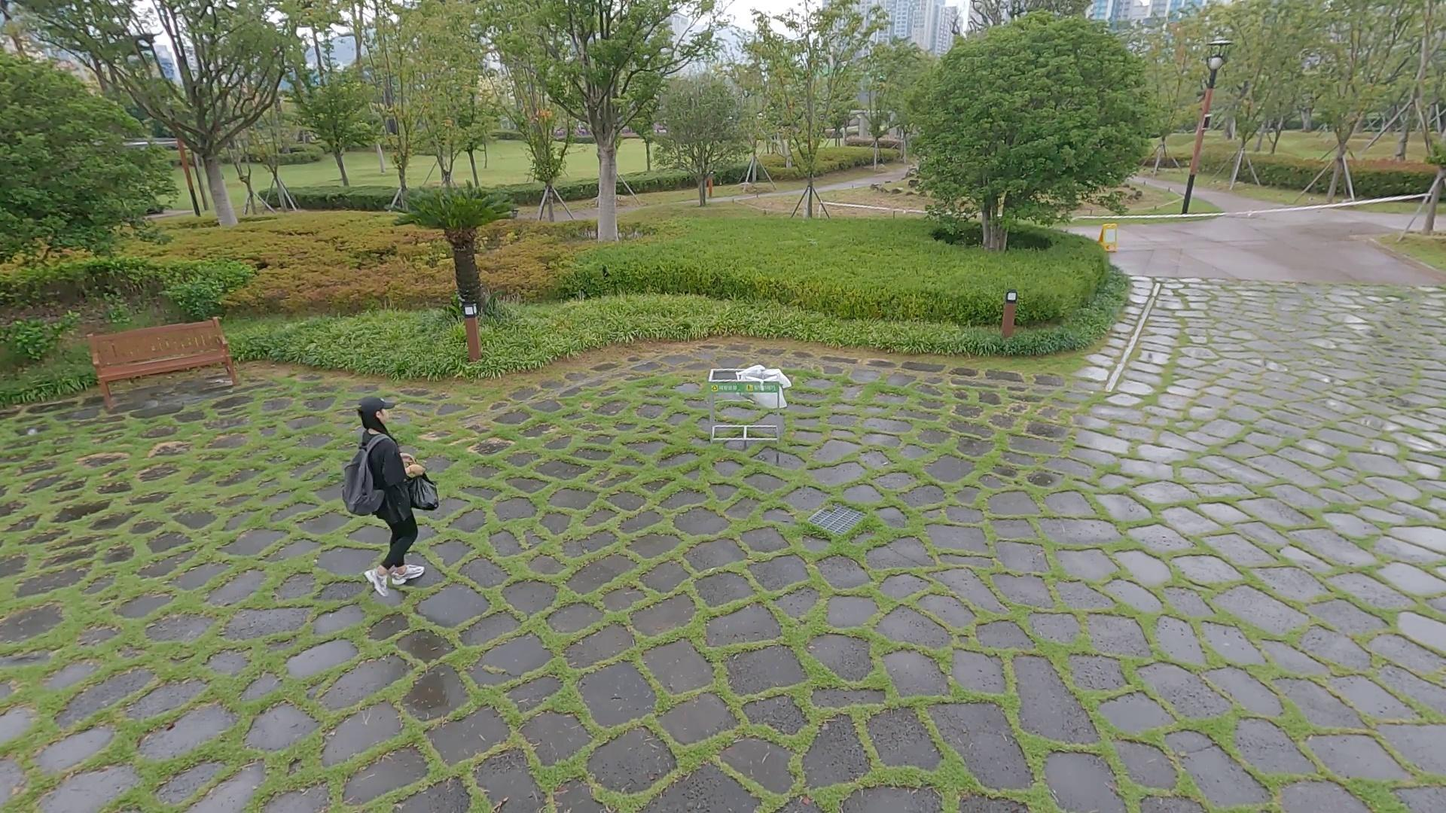person: (339, 393, 441, 596)
trash: (401, 463, 443, 511)
